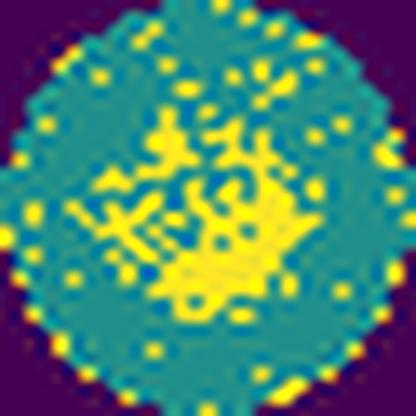Center: (63, 107, 322, 326)
